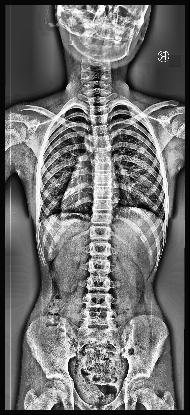Vertebrae: (82, 312, 114, 328), (84, 294, 113, 310), (86, 278, 112, 292), (87, 260, 111, 274), (89, 243, 111, 258), (89, 227, 111, 240), (94, 158, 113, 172), (94, 172, 112, 186), (92, 146, 112, 158), (93, 199, 113, 211), (91, 214, 113, 224), (94, 185, 112, 197), (90, 106, 108, 116), (92, 137, 110, 147), (91, 125, 108, 135), (91, 116, 108, 124)
